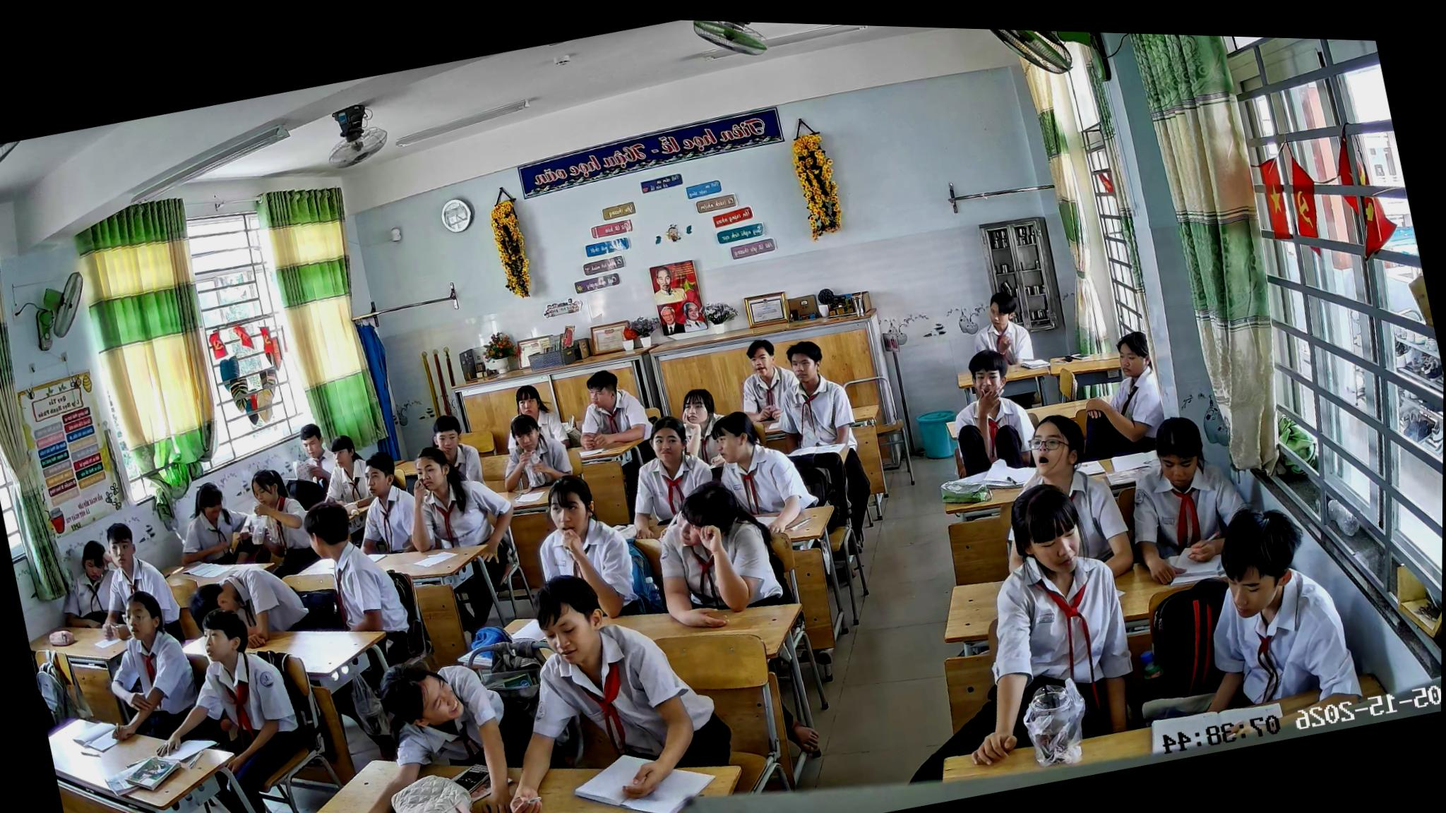person: (910, 463, 1157, 779), (459, 541, 739, 813), (1149, 477, 1389, 754), (283, 623, 528, 813), (959, 402, 1143, 612), (126, 586, 310, 776), (481, 461, 652, 645), (637, 466, 792, 642), (1111, 401, 1251, 591), (70, 576, 205, 748), (289, 479, 418, 655), (915, 341, 1052, 504), (692, 393, 827, 555), (389, 425, 524, 567), (598, 406, 730, 551), (1061, 320, 1182, 459), (172, 539, 312, 659), (73, 507, 181, 649), (758, 327, 867, 460), (335, 443, 430, 556), (948, 273, 1047, 379), (563, 356, 661, 459), (160, 471, 259, 572), (233, 455, 319, 563), (491, 407, 579, 499), (662, 378, 743, 477), (410, 402, 495, 496), (44, 533, 120, 637), (727, 330, 802, 434), (487, 374, 570, 462), (274, 413, 357, 501), (309, 426, 385, 508)
